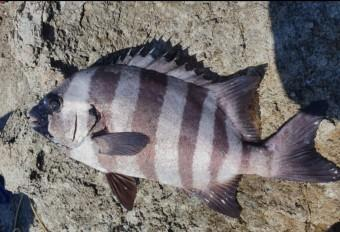fish: (30, 48, 339, 217)
